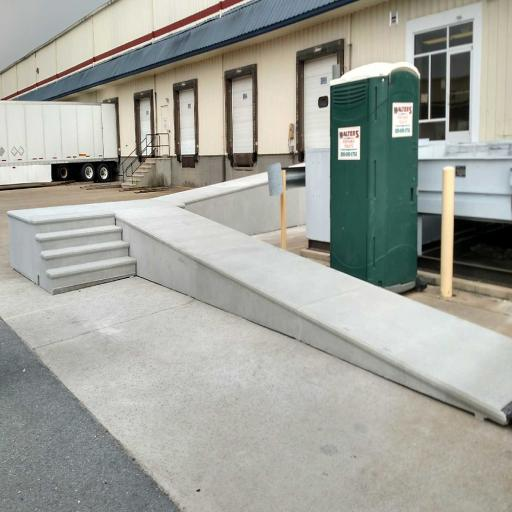ramp: (114, 206, 512, 429)
stairs: (9, 211, 137, 295)
